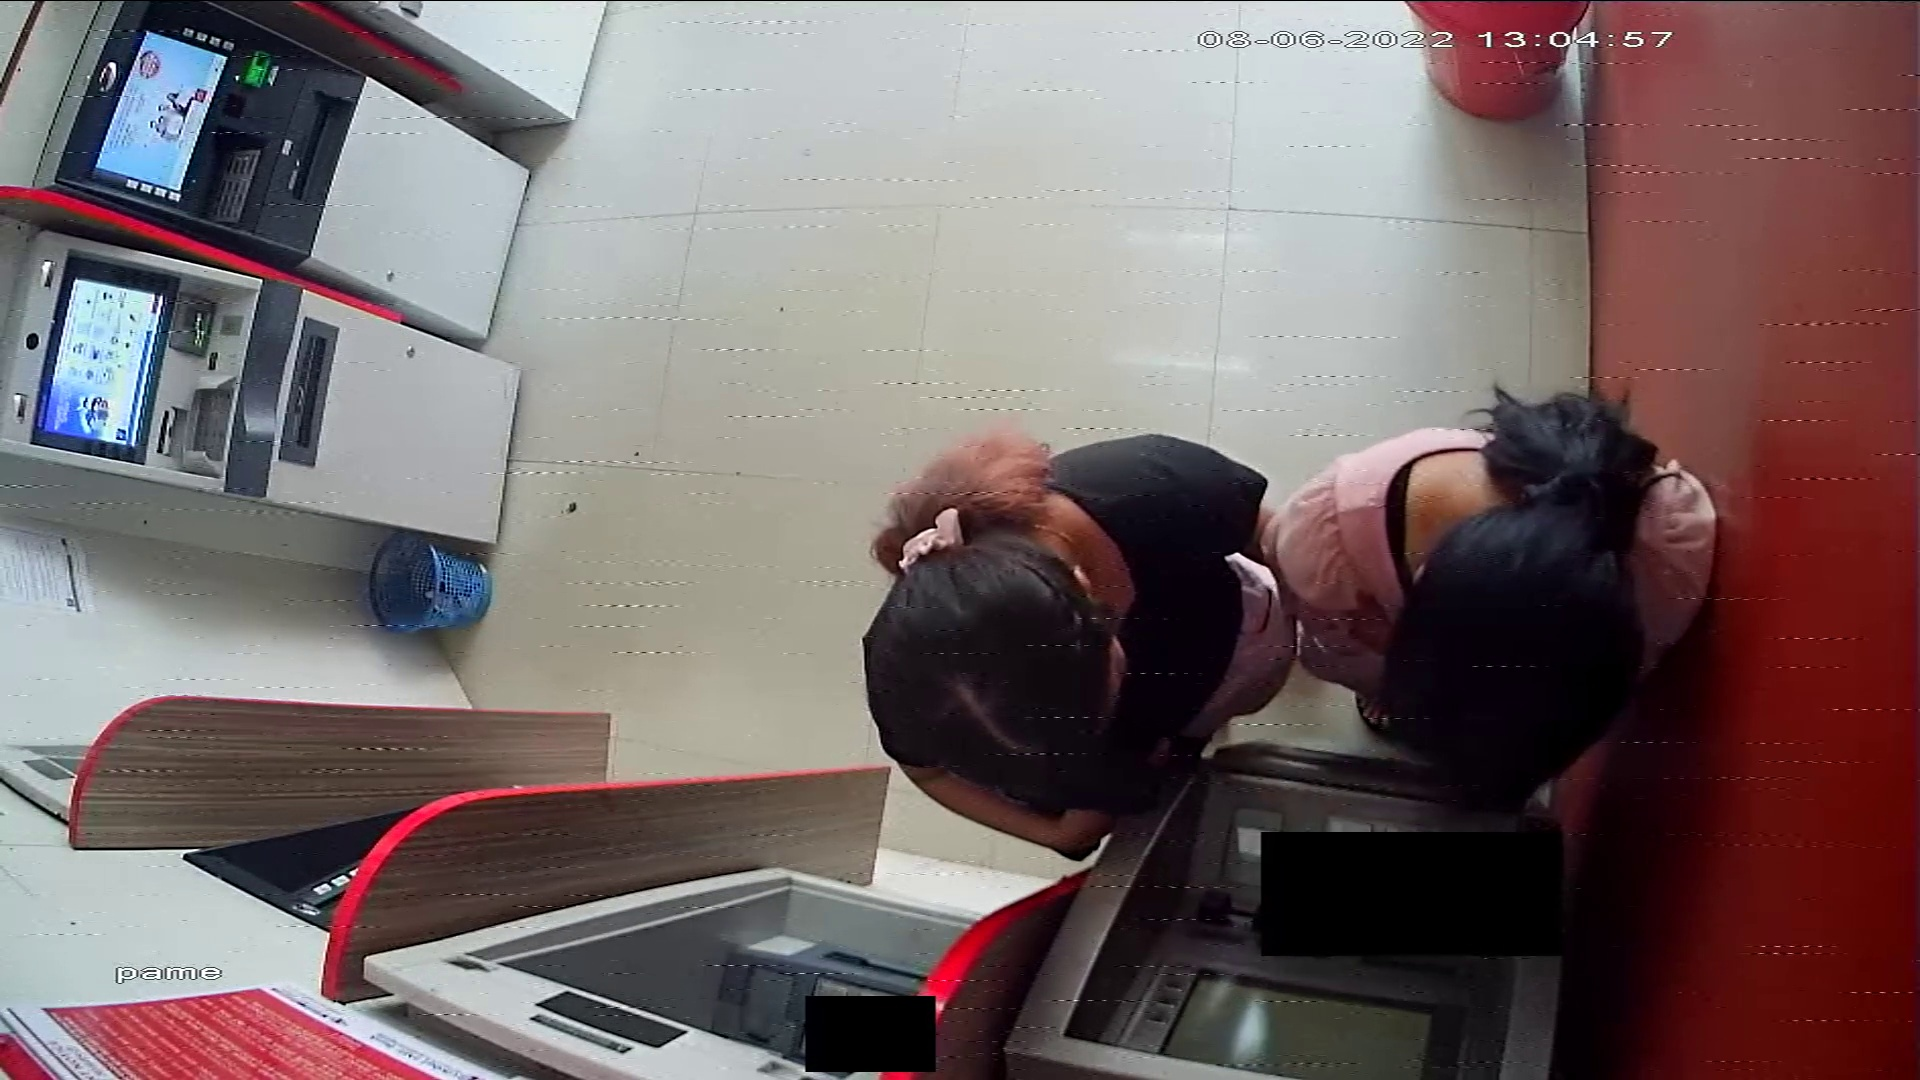person: (863, 428, 1307, 856), (1266, 400, 1721, 785)
